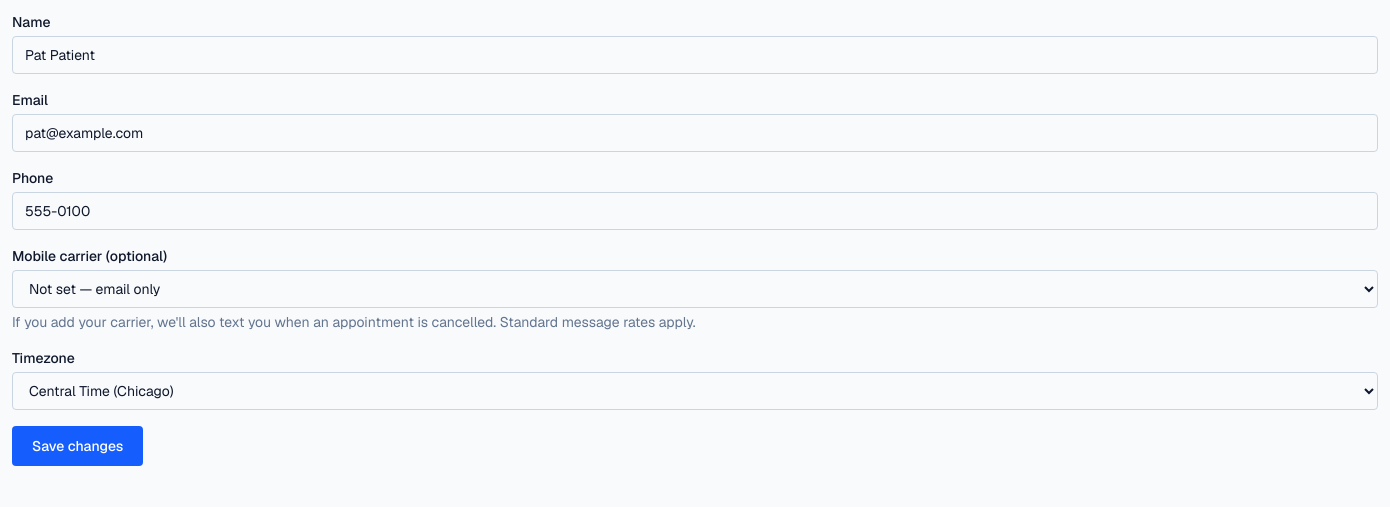
Test: ProfileForm › shows an inline error next to the carrier select from a 400 sms_carrier field error
Expected: the dropdown labelled "Mobile carrier (optional)" is shown, [12,270,1378,308]
What coordinates should you click on to do the following:
click the button "Save changes"
I would click on:
 (78, 446)
Its box is [12,426,143,466].
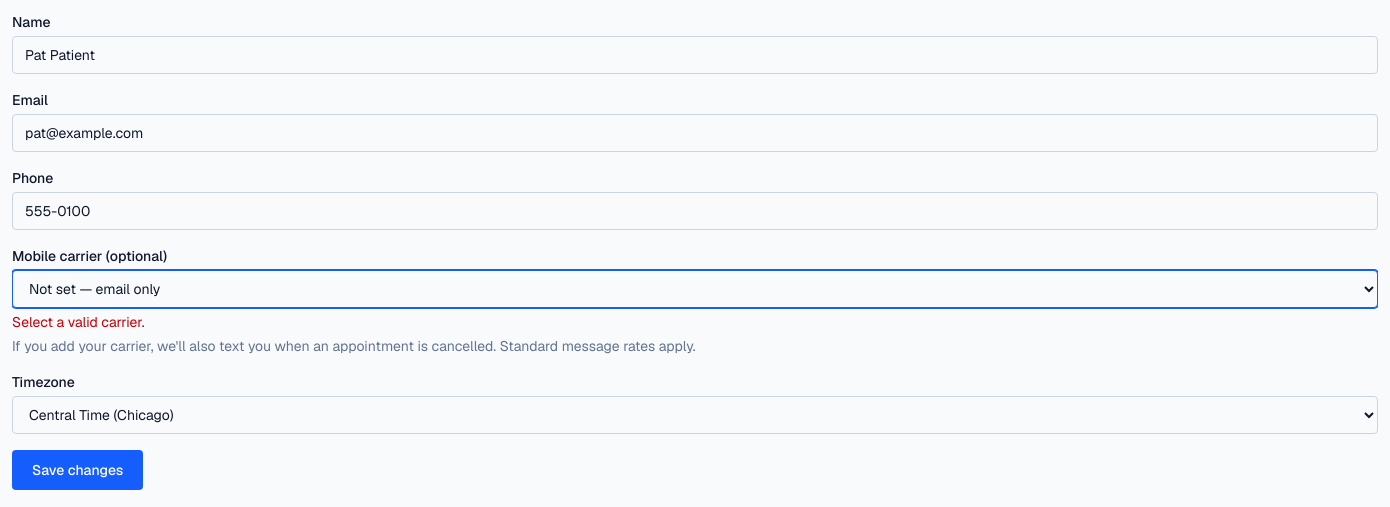
Now the text "Select a valid carrier." is shown, box [12,313,144,331]
